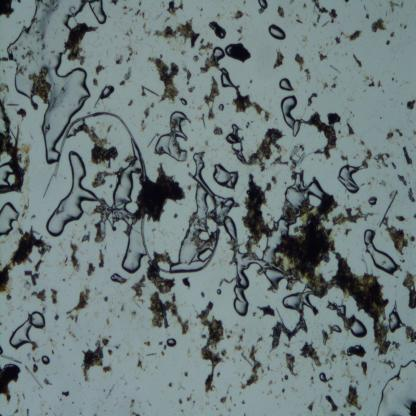Air bubble: (8, 0, 88, 167), (222, 214, 281, 322), (166, 186, 210, 271), (375, 357, 415, 416), (152, 110, 190, 161), (364, 228, 402, 279), (7, 310, 48, 350), (335, 161, 363, 198), (279, 94, 300, 136), (214, 159, 243, 189), (212, 192, 237, 226), (282, 288, 312, 314), (0, 200, 20, 237), (89, 0, 108, 24), (192, 151, 207, 181), (388, 305, 404, 333), (350, 318, 370, 340), (226, 123, 245, 145), (0, 161, 15, 186), (219, 68, 236, 88), (326, 302, 349, 316), (268, 24, 286, 41), (211, 46, 226, 64), (278, 77, 296, 91), (100, 85, 115, 100), (110, 273, 126, 285), (165, 338, 177, 348), (41, 354, 51, 366), (368, 196, 378, 207), (258, 0, 268, 9), (332, 324, 342, 332), (319, 372, 327, 382), (180, 97, 188, 106), (200, 334, 207, 340), (258, 8, 264, 15), (216, 289, 221, 295)
Background material: (277, 197, 347, 302), (332, 244, 394, 354), (131, 252, 190, 339), (197, 300, 222, 394), (233, 124, 287, 167), (145, 169, 185, 227), (244, 168, 272, 244), (304, 108, 342, 162), (0, 134, 32, 198), (10, 222, 50, 270), (76, 126, 119, 168), (230, 84, 273, 124), (147, 55, 179, 104), (64, 17, 96, 65), (268, 314, 305, 355), (152, 20, 198, 52), (24, 65, 54, 106), (78, 338, 107, 380), (238, 342, 260, 389), (197, 74, 220, 118), (0, 362, 24, 404), (331, 204, 372, 228), (66, 284, 90, 321), (93, 195, 110, 247), (378, 188, 397, 228), (224, 42, 256, 63), (386, 225, 409, 254), (300, 342, 324, 369), (0, 82, 12, 134), (23, 363, 45, 391), (290, 140, 308, 174), (340, 356, 359, 386), (335, 27, 364, 45), (403, 270, 416, 310), (0, 262, 13, 300), (346, 382, 362, 410), (68, 239, 80, 275), (124, 27, 136, 63), (163, 0, 186, 18), (28, 286, 50, 304), (209, 20, 228, 40), (20, 198, 36, 221), (284, 353, 298, 378), (256, 302, 275, 320), (373, 150, 392, 167), (371, 16, 387, 36), (0, 340, 13, 364), (198, 36, 214, 55), (0, 0, 15, 20), (127, 395, 141, 416), (120, 65, 134, 86), (95, 172, 111, 190), (346, 344, 366, 358), (360, 147, 372, 170), (403, 323, 416, 344), (311, 0, 329, 15), (324, 395, 339, 412), (199, 56, 213, 74), (45, 0, 63, 13), (319, 327, 332, 345), (273, 47, 283, 70), (81, 228, 95, 244), (14, 105, 30, 119), (339, 316, 355, 330), (103, 383, 116, 400), (404, 398, 416, 416), (378, 358, 397, 369), (295, 52, 305, 72), (22, 47, 36, 61), (196, 114, 208, 130), (352, 52, 363, 69), (307, 92, 320, 106), (136, 352, 146, 370), (325, 353, 336, 369), (91, 64, 107, 75), (183, 67, 192, 86), (345, 120, 355, 137), (328, 9, 338, 25), (181, 276, 193, 289), (100, 333, 111, 347), (397, 172, 408, 186), (360, 360, 369, 377), (48, 334, 58, 349), (269, 172, 278, 188), (394, 213, 407, 224), (86, 264, 96, 278), (222, 347, 232, 361), (300, 34, 310, 48), (407, 188, 416, 203), (317, 49, 328, 61), (231, 8, 242, 20), (114, 55, 125, 67), (34, 259, 45, 271), (389, 0, 399, 13), (365, 75, 375, 88), (312, 305, 322, 318), (406, 97, 416, 109), (326, 376, 334, 390), (89, 77, 99, 88), (213, 126, 223, 137), (183, 393, 194, 403), (329, 65, 341, 74), (278, 4, 285, 19), (52, 289, 58, 306), (234, 26, 244, 36), (34, 30, 44, 40), (42, 378, 52, 388), (141, 23, 150, 34), (386, 129, 394, 141), (225, 327, 233, 339), (68, 329, 76, 341), (392, 340, 400, 352), (305, 68, 312, 81), (0, 52, 9, 62), (40, 43, 50, 52), (104, 365, 114, 374), (144, 108, 152, 119), (61, 390, 72, 398), (218, 100, 225, 112), (124, 100, 134, 108), (396, 127, 404, 137), (134, 10, 144, 18), (93, 286, 101, 296), (62, 254, 68, 267), (100, 252, 107, 263), (156, 162, 164, 171), (408, 235, 416, 244), (140, 85, 146, 97), (32, 364, 40, 373), (219, 395, 227, 404), (338, 152, 347, 160), (308, 400, 315, 410), (146, 352, 157, 358), (309, 375, 315, 386), (141, 119, 146, 132), (104, 125, 112, 133), (344, 229, 352, 237), (130, 310, 138, 318), (192, 54, 199, 63), (124, 7, 131, 16), (25, 406, 31, 416), (108, 0, 118, 6), (378, 180, 388, 186), (216, 12, 223, 20), (358, 139, 366, 146), (102, 294, 109, 302), (296, 18, 303, 26), (321, 20, 329, 27), (234, 345, 243, 351), (349, 109, 354, 119), (322, 82, 329, 89), (332, 82, 338, 90), (160, 351, 168, 357), (256, 334, 262, 342), (144, 340, 152, 346), (228, 395, 233, 404), (315, 15, 320, 24), (398, 258, 405, 264), (391, 163, 397, 170), (266, 364, 272, 371), (312, 20, 318, 27), (385, 38, 391, 45), (241, 398, 247, 405), (188, 88, 195, 94), (204, 138, 209, 146), (108, 349, 113, 357), (348, 411, 356, 416), (105, 318, 110, 326), (108, 308, 114, 314), (114, 344, 120, 350), (287, 0, 294, 5), (367, 381, 372, 388), (400, 1, 404, 9), (378, 79, 382, 87), (14, 408, 18, 416), (22, 295, 26, 303), (168, 381, 172, 389), (238, 335, 242, 343), (366, 14, 370, 22), (18, 396, 22, 404), (186, 161, 191, 167), (158, 340, 164, 345), (21, 393, 26, 399), (199, 6, 204, 12), (60, 277, 66, 282), (341, 0, 351, 3), (302, 2, 307, 8), (120, 306, 125, 312), (332, 76, 338, 81), (348, 96, 353, 102), (188, 184, 192, 191), (390, 32, 395, 37), (252, 312, 257, 317), (32, 356, 37, 361), (190, 146, 195, 151), (91, 412, 97, 416), (10, 52, 14, 58), (282, 388, 286, 394), (324, 41, 328, 47), (412, 129, 416, 135), (368, 180, 372, 186), (233, 402, 237, 408), (400, 100, 404, 106), (330, 40, 334, 46), (268, 379, 272, 385), (413, 211, 416, 218), (353, 154, 358, 158), (249, 79, 253, 84), (284, 375, 288, 380), (408, 136, 413, 140), (150, 103, 154, 108), (404, 24, 408, 29), (228, 409, 232, 414), (184, 372, 189, 376), (385, 10, 388, 16), (29, 354, 32, 360), (53, 349, 56, 355), (116, 314, 120, 318), (18, 0, 22, 3), (139, 2, 142, 6), (296, 14, 300, 17), (382, 89, 385, 93), (180, 400, 182, 405), (392, 76, 394, 81), (339, 129, 341, 134), (364, 5, 366, 10), (363, 89, 366, 92), (410, 120, 413, 123), (361, 184, 365, 186), (400, 23, 402, 27), (59, 398, 61, 401), (45, 413, 48, 415), (380, 116, 382, 119), (346, 53, 348, 55)
Diatom: (46, 152, 100, 236), (110, 149, 142, 214), (123, 214, 146, 275), (402, 144, 414, 166), (23, 269, 32, 277), (31, 274, 37, 286), (172, 210, 178, 219), (98, 262, 104, 269), (218, 279, 224, 286), (224, 278, 230, 284), (200, 292, 205, 298), (229, 278, 235, 283), (55, 314, 59, 321)
Microfibre: (53, 106, 220, 274)
